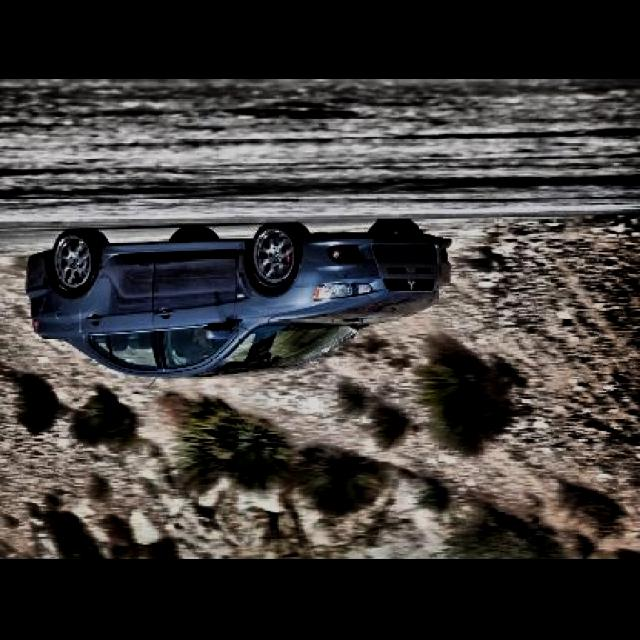black: (0, 237, 455, 380)
